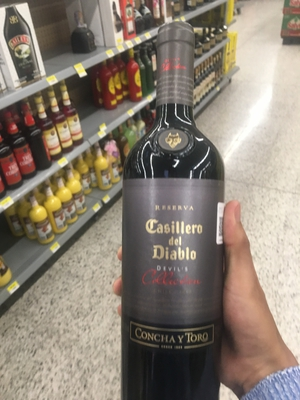casillero del diablo devils collection rojo: (108, 28, 236, 400)
